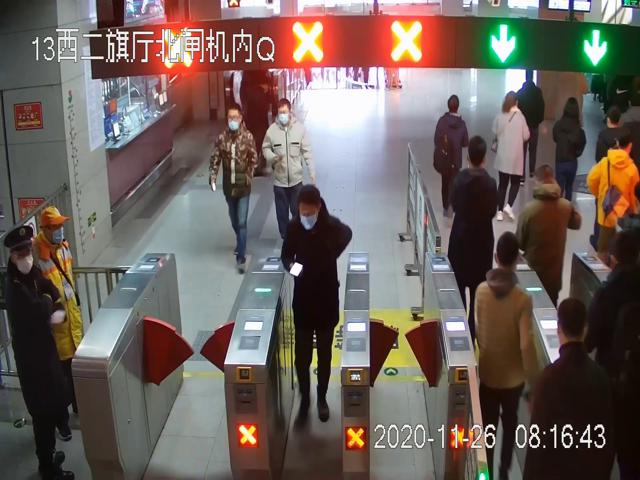person: (0, 223, 77, 480), (281, 185, 353, 424), (474, 231, 535, 477), (31, 205, 81, 442), (448, 134, 496, 347), (208, 103, 256, 274), (264, 98, 317, 249), (492, 91, 529, 219), (434, 92, 469, 225)
